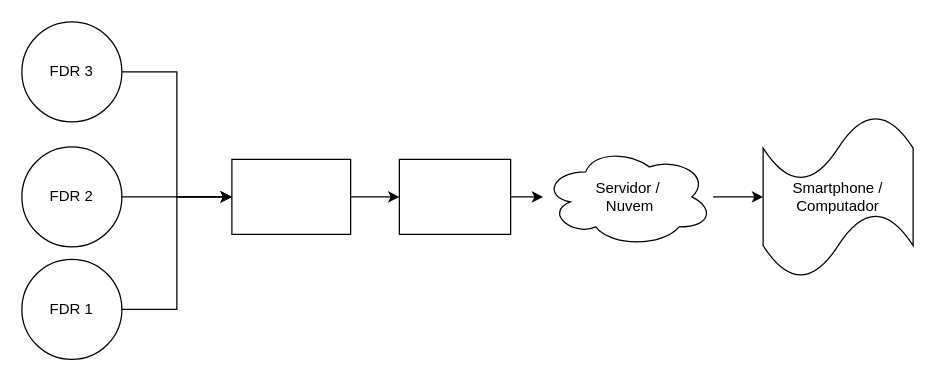
Image size: 935x381. Some labels were removed from this diagram. The centre of each missing label's shape, as x and y in pixels:
Gateway LoRaWAN: [454,196]
Nó Sensor LoRaWAN: [291,196]
